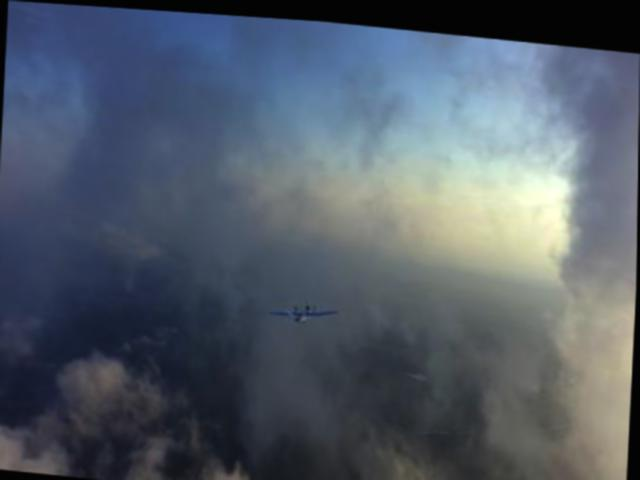uav: (269, 292, 341, 327)
